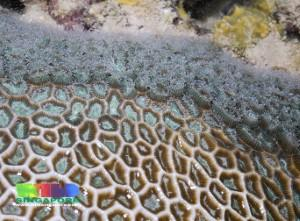bleached_corals: (45, 0, 211, 36), (245, 0, 300, 76)
